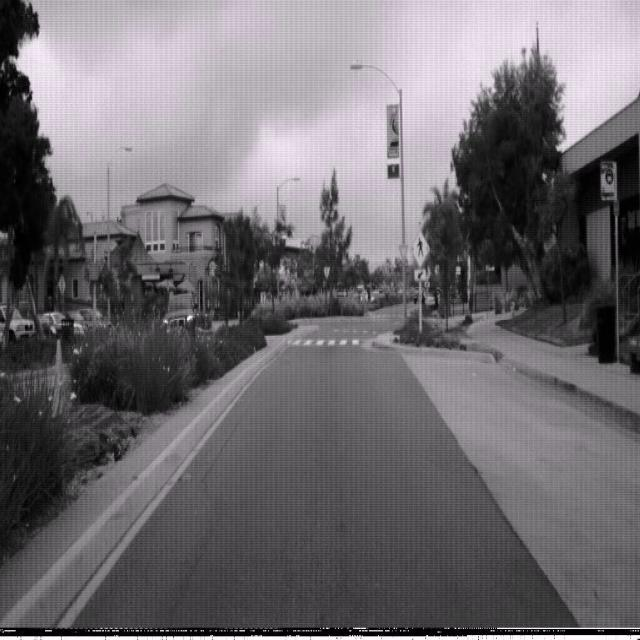pedestrianCrossing: (410, 228, 430, 269)
